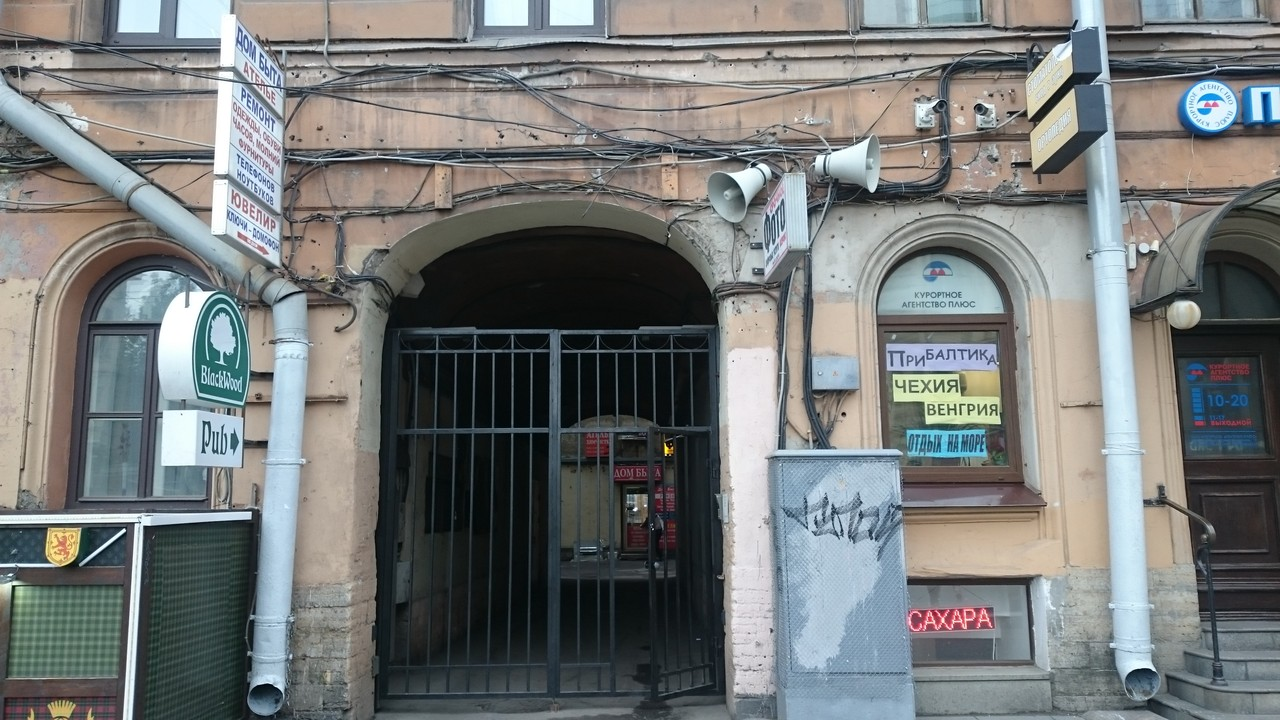arch: (358, 200, 722, 720)
cantilever: (154, 273, 273, 489), (209, 12, 301, 274), (1009, 21, 1106, 187), (751, 173, 810, 292)
signboard: (1176, 66, 1280, 140)
window: (876, 242, 1026, 486), (70, 254, 206, 510), (907, 581, 1034, 667)
